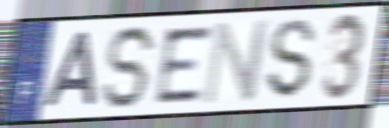3: (319, 9, 368, 104)
A: (40, 29, 99, 112)
E: (154, 22, 215, 107)
N: (201, 17, 273, 108)
S: (100, 23, 161, 112), (265, 18, 318, 102)
